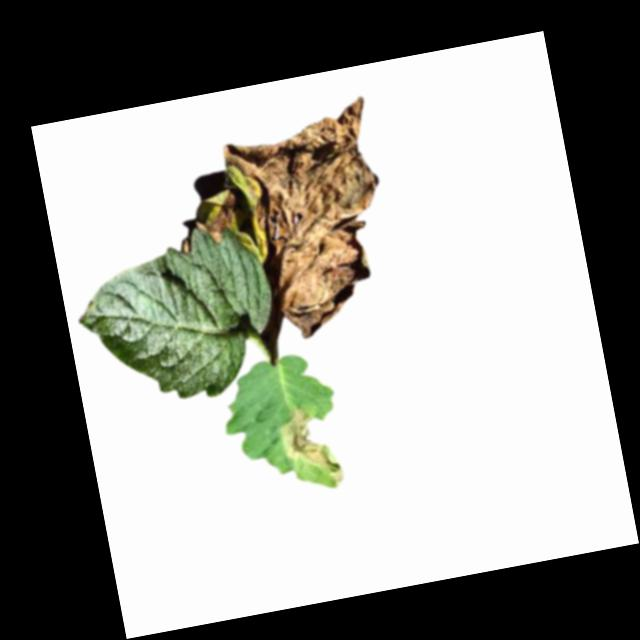Late_blight: (217, 93, 406, 346), (272, 398, 346, 498), (189, 189, 238, 247)
